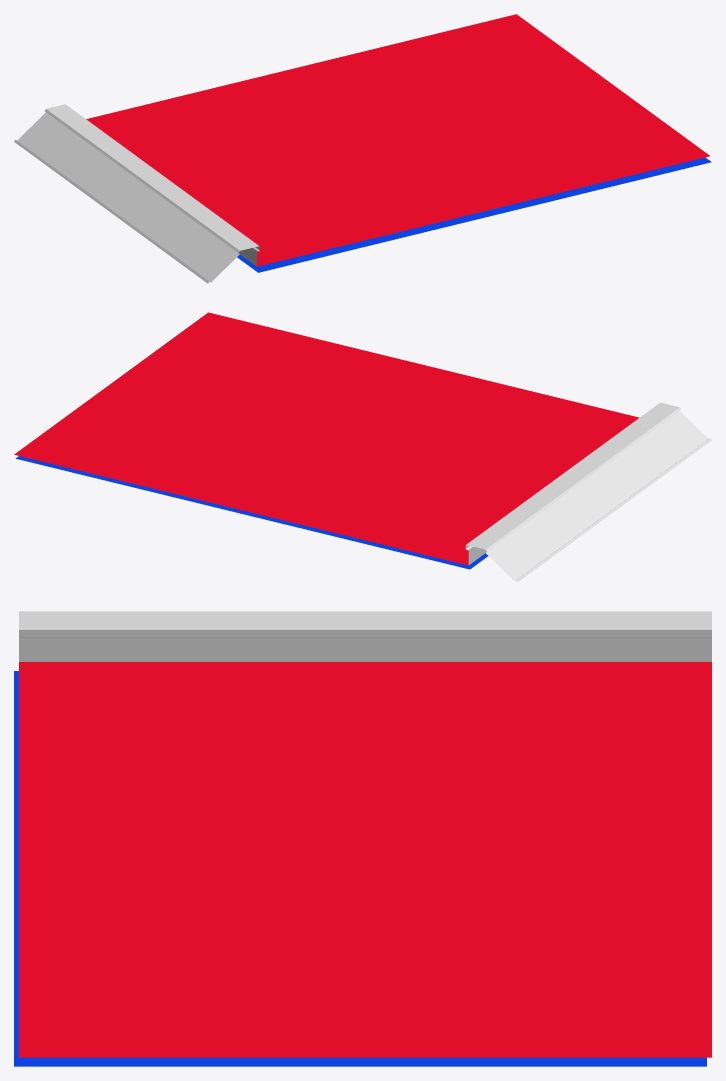
The model's file is floor 2.fbx.
The picture shows the model from 3 angles, top to bottom: view 1: azimuth 30°, elevation 25°; view 2: azimuth 150°, elevation 25°; view 3: azimuth 270°, elevation 25°; orthographic projection. The views are drawn at different scales.
Visible parts, largest first — view 1: edge4; view 2: edge4; view 3: edge4.
Part boxes in pixels (box(x1,y1,x2,y2)): edge4: box(14, 14, 711, 283); edge4: box(14, 312, 711, 582); edge4: box(14, 611, 711, 1066).
Size of the model in its own units: 898 by 42.84 by 604.
